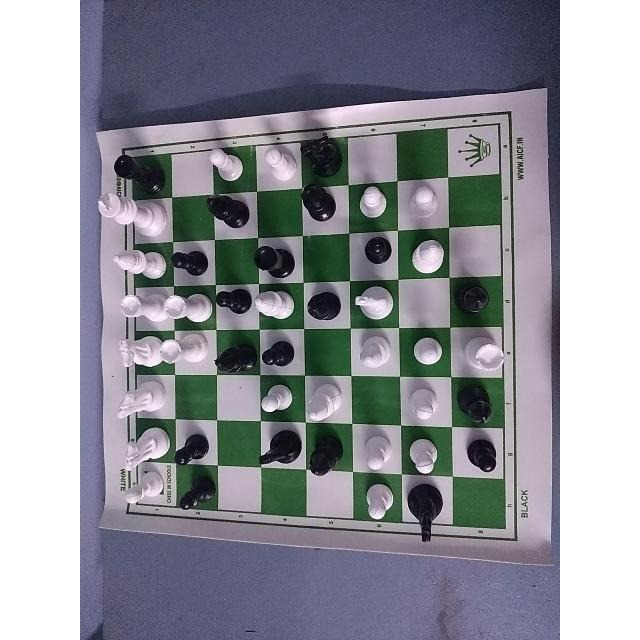black-bishop: (299, 180, 355, 226), (210, 190, 256, 243), (302, 280, 346, 330), (306, 430, 346, 483), (214, 334, 258, 378), (460, 385, 504, 424), (458, 280, 502, 316)
black-knight: (399, 481, 446, 547), (252, 425, 302, 471), (300, 135, 345, 175)
black-pawn: (453, 436, 502, 480), (175, 422, 219, 466), (357, 233, 403, 269), (215, 283, 256, 323), (260, 336, 301, 376), (172, 472, 216, 508), (170, 237, 210, 274)
black-rook: (114, 148, 164, 189), (255, 234, 295, 284)
white-bishop: (111, 239, 166, 283), (304, 378, 345, 427), (255, 282, 299, 326), (351, 334, 394, 376), (406, 229, 445, 273)
white-king: (94, 192, 170, 232)
white-knight: (111, 373, 167, 417), (355, 282, 399, 326), (110, 332, 158, 366)
white-pawn: (208, 139, 256, 189), (405, 326, 451, 378), (400, 426, 448, 473), (400, 176, 444, 224), (400, 381, 444, 427), (119, 469, 165, 511), (253, 380, 300, 418), (358, 427, 394, 473), (361, 478, 393, 522), (355, 184, 388, 220), (266, 139, 291, 184)
white-rook: (456, 331, 510, 379), (120, 284, 161, 331), (160, 332, 213, 366), (167, 286, 215, 321)
